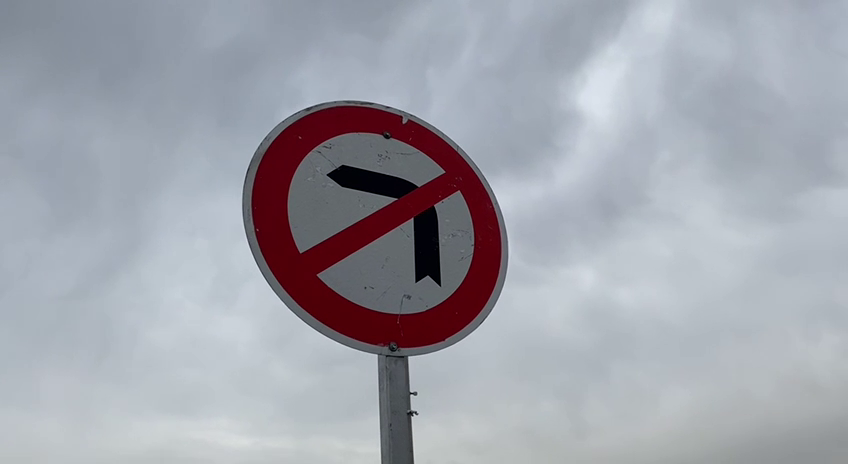noTurnLeft: (232, 98, 517, 361)
